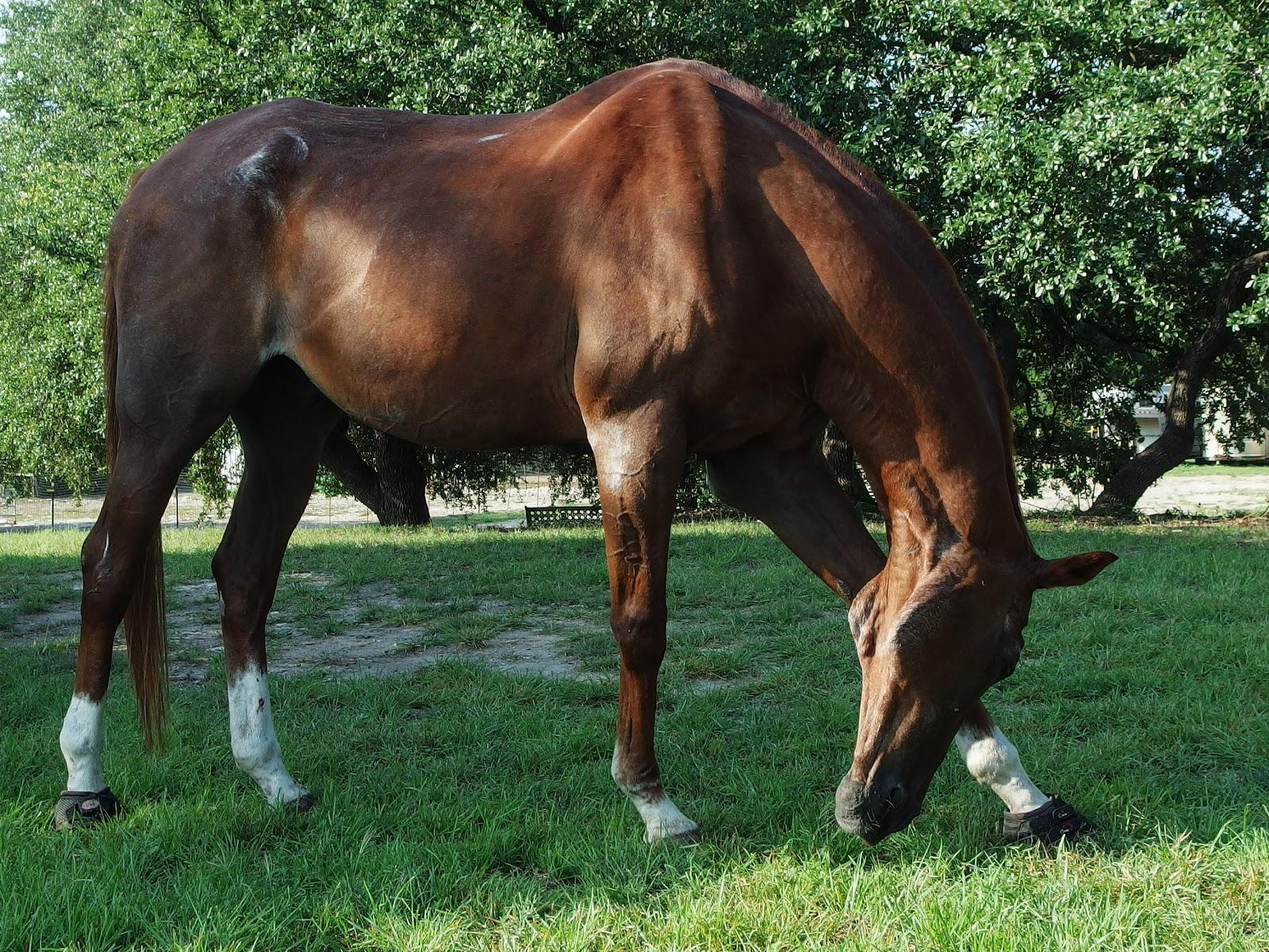horse: (40, 43, 1131, 871)
